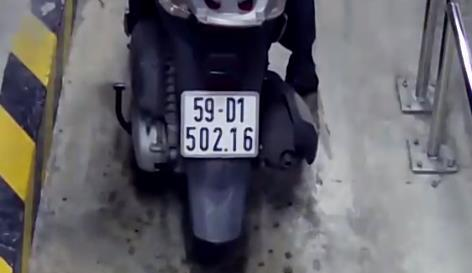lisence: (180, 91, 259, 157)
